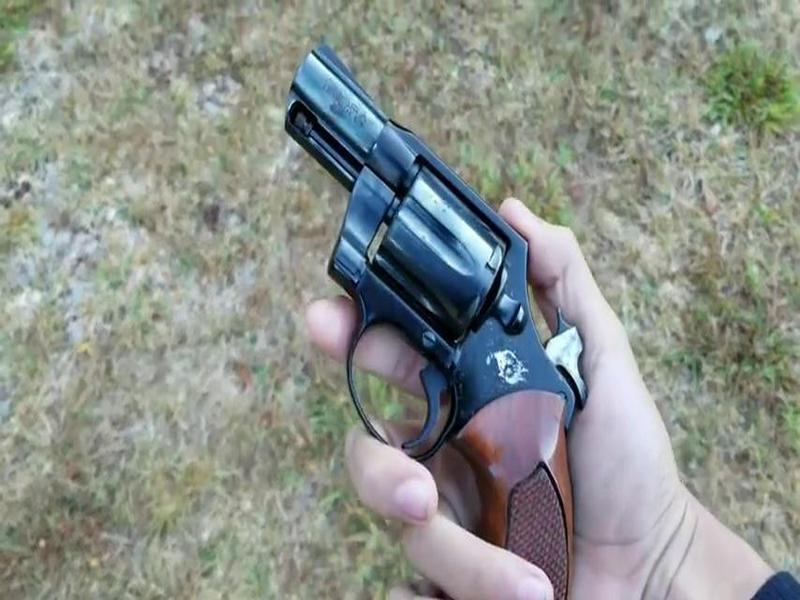Revolver: (267, 41, 628, 600)
